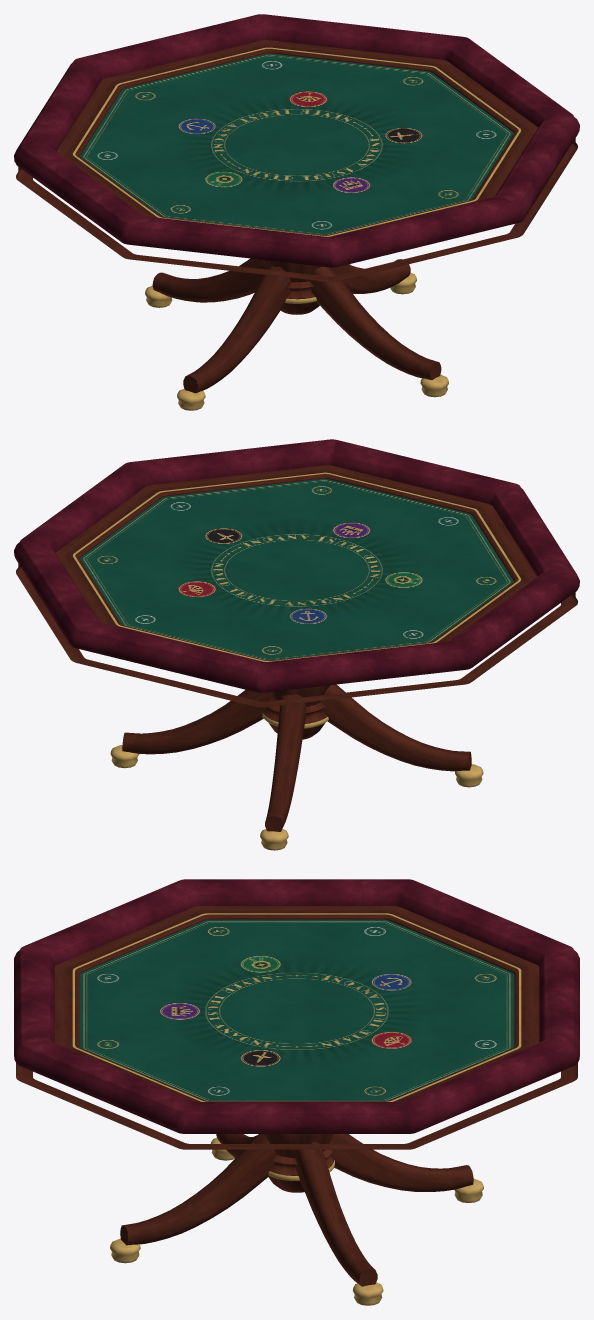
File: Table.glb
3 views of the same model, one above another, from view 1: azimuth 30°, elevation 25°; view 2: azimuth 150°, elevation 25°; view 3: azimuth 270°, elevation 25° (orthographic). The views are drawn at different scales.
Parts seen in each view (by area): view 1: Table_Felt, Table_Rail, Table_Top, Table_Pedestal, Table_Brass; view 2: Table_Felt, Table_Rail, Table_Top, Table_Pedestal, Table_Brass; view 3: Table_Felt, Table_Rail, Table_Top, Table_Pedestal, Table_Brass.
Part boxes in pixels (x1,y1,x2,y2): Table_Felt: [80, 53, 513, 235]; Table_Rail: [14, 14, 579, 267]; Table_Top: [16, 40, 577, 282]; Table_Pedestal: [152, 258, 441, 393]; Table_Brass: [73, 47, 521, 410]; Table_Felt: [80, 478, 513, 660]; Table_Rail: [14, 439, 579, 692]; Table_Top: [16, 465, 577, 707]; Table_Pedestal: [122, 684, 471, 831]; Table_Brass: [73, 472, 521, 850]; Table_Felt: [79, 919, 514, 1101]; Table_Rail: [14, 879, 579, 1133]; Table_Top: [16, 906, 577, 1149]; Table_Pedestal: [120, 1134, 473, 1286]; Table_Brass: [72, 913, 521, 1305].
Size of the model in its own units: 1.8 by 0.821 by 1.8.
4 materials, 4 textured.
